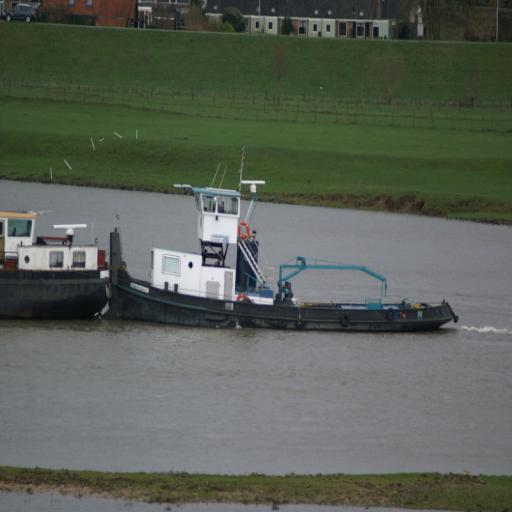tugboat: (108, 176, 465, 346)
